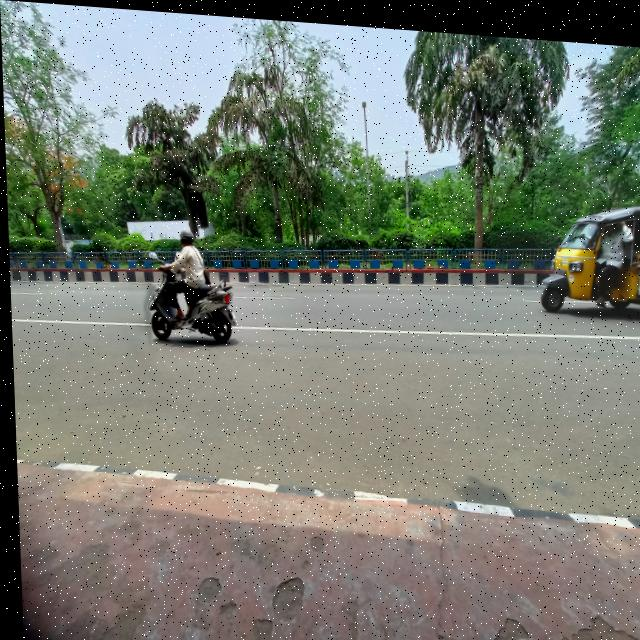bike: (145, 257, 229, 342)
